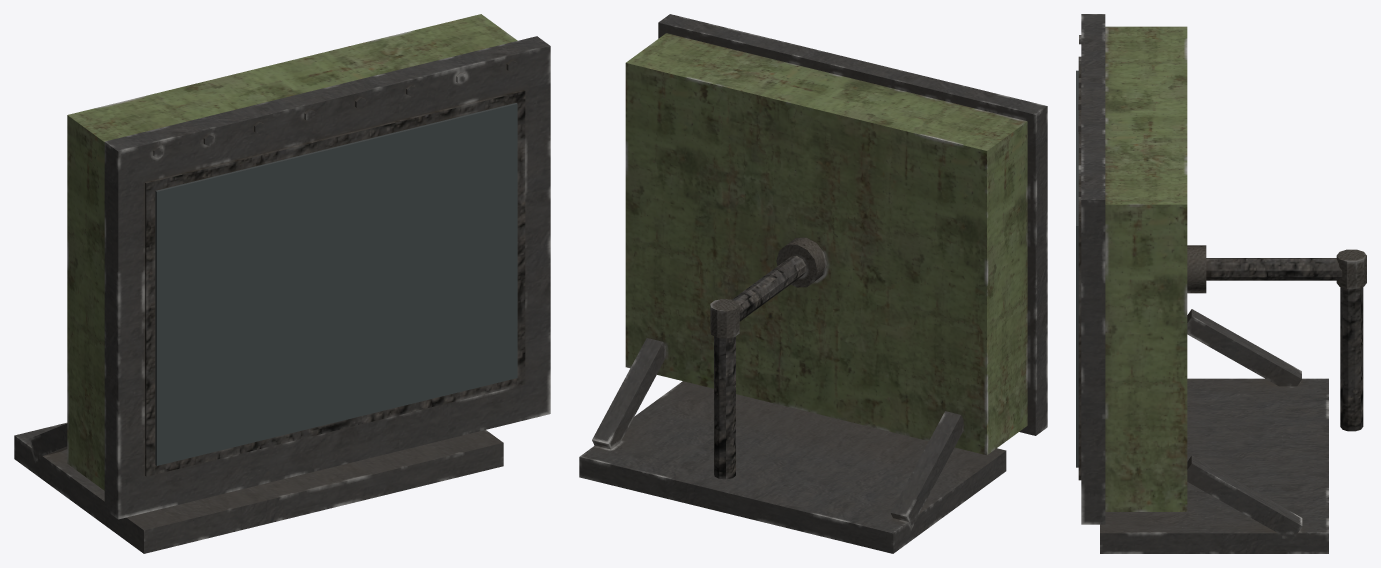
The model's file is feDisplayPanel_HD.fbx.
The picture shows the model from 3 angles, left to right: view 1: azimuth 30°, elevation 25°; view 2: azimuth 150°, elevation 25°; view 3: azimuth 270°, elevation 25°; orthographic projection. The views are drawn at different scales.
Parts seen in each view (by area): view 1: feDisplayPanel_Base; view 2: feDisplayPanel_Base; view 3: feDisplayPanel_Base.
Boxes of the visible parts, x1,y1,x2,y2 form: feDisplayPanel_Base: (14, 14, 550, 553); feDisplayPanel_Base: (579, 14, 1047, 553); feDisplayPanel_Base: (1076, 14, 1366, 553).
Bounding box in the file's own units: 0.9624 × 0.8912 × 0.6355.
1 material, 1 textured.
